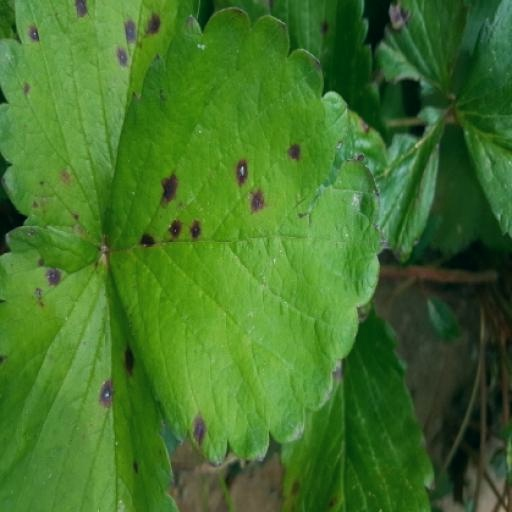Leaf Spot: (124, 8, 406, 466), (331, 225, 511, 511), (310, 0, 511, 246), (76, 300, 232, 511), (122, 0, 313, 146)
